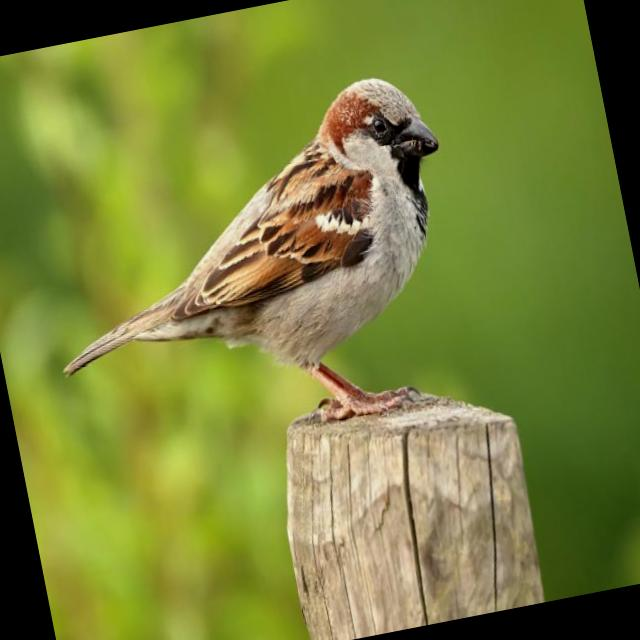bird: (14, 59, 492, 485)
